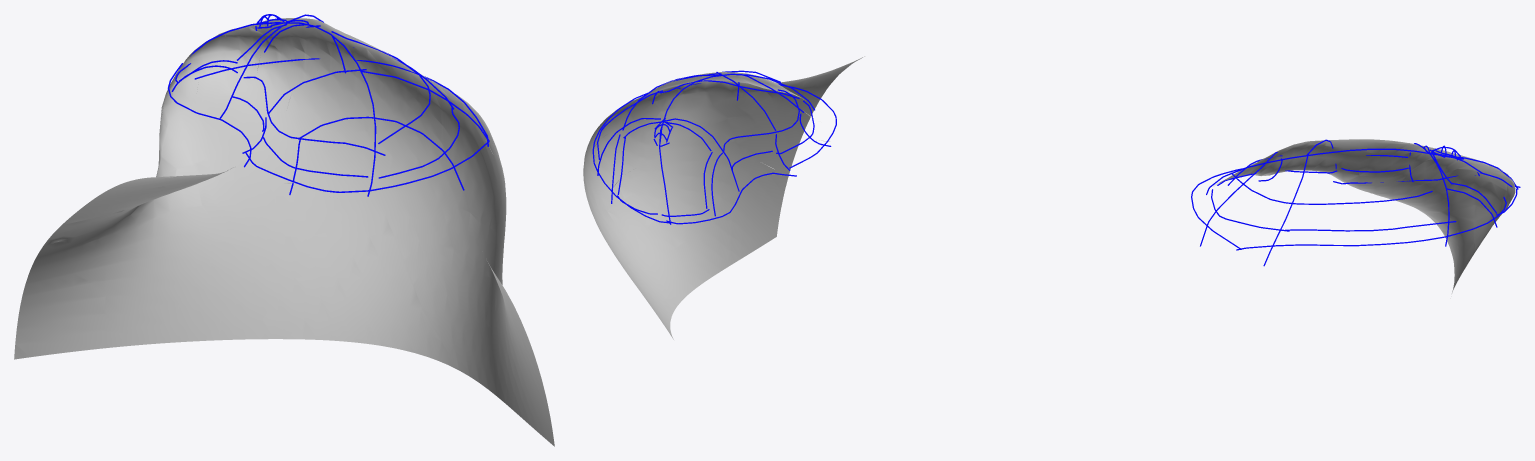
Rendered from cassie_computer-mouse_sketch_proxy.glb.
3 renders of one model, left to right at view 1: azimuth 30°, elevation 25°; view 2: azimuth 150°, elevation 25°; view 3: azimuth 270°, elevation 25°, orthographic. The views are drawn at different scales.
Parts seen in each view (by area): view 1: cassie_computer-mouse_surface, cassie_computer-mouse; view 2: cassie_computer-mouse_surface, cassie_computer-mouse; view 3: cassie_computer-mouse_surface, cassie_computer-mouse.
Boxes of the visible parts, x1,y1,x2,y2 form: cassie_computer-mouse_surface: (14, 18, 554, 446); cassie_computer-mouse: (167, 14, 489, 196); cassie_computer-mouse_surface: (583, 56, 864, 339); cassie_computer-mouse: (592, 70, 836, 224); cassie_computer-mouse_surface: (1215, 139, 1515, 292); cassie_computer-mouse: (1191, 139, 1520, 266).
Bounding box in the file's own units: 1.19 × 0.9859 × 1.34.
